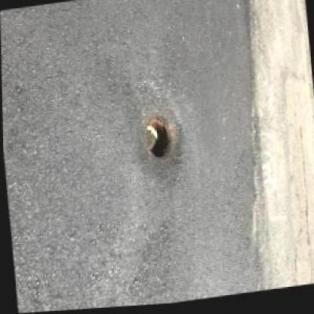Hueco: (141, 115, 173, 168)
